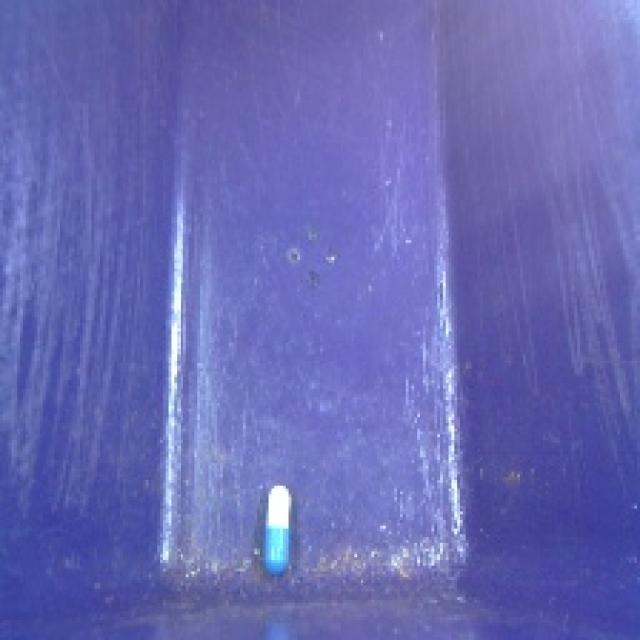small: (259, 476, 302, 584)
